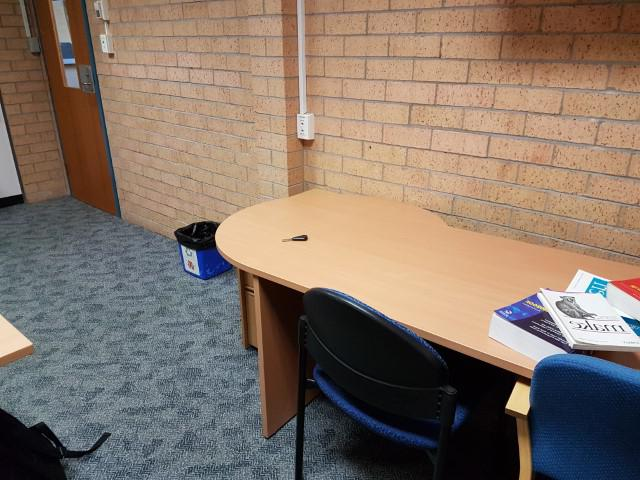key: (284, 234, 308, 243)
